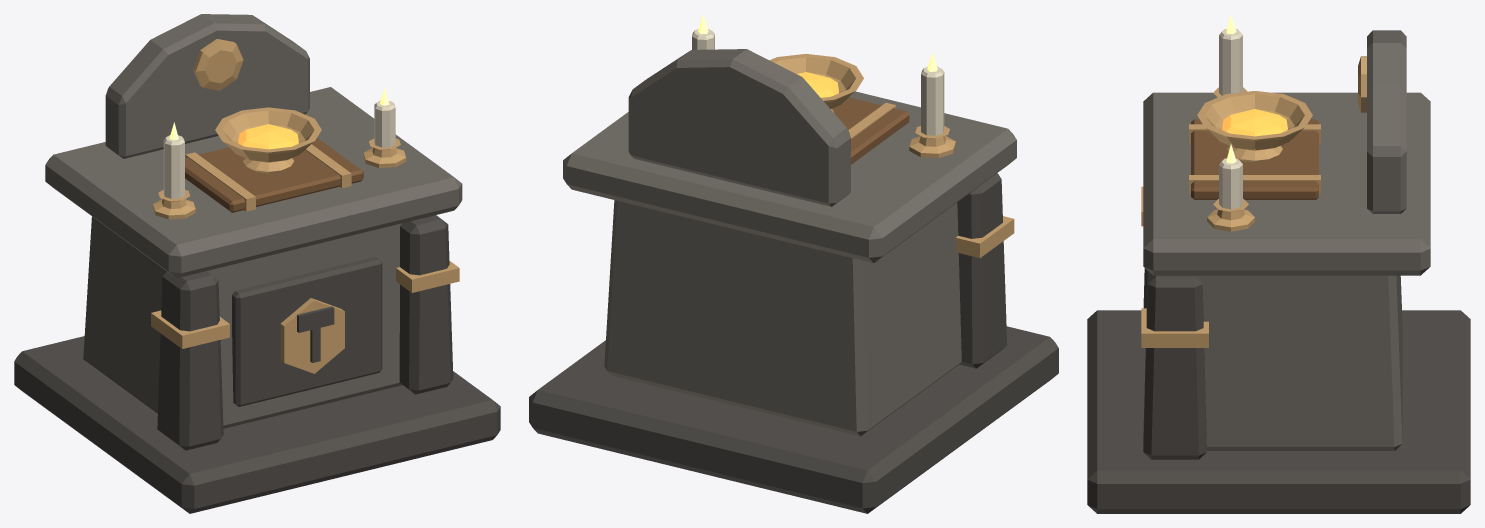
File: shrine.glb
3 views of the same model, side by side, from view 1: azimuth 30°, elevation 25°; view 2: azimuth 150°, elevation 25°; view 3: azimuth 270°, elevation 25° (orthographic). The views are drawn at different scales.
Parts seen in each view (by area): view 1: plinth, altar_top, altar_body, stele, front_panel, buttress_l, buttress_r, offering_board, offering_bowl, rune_plaque, stele_emblem, buttress_band_l (+9 smaller); view 2: altar_body, plinth, altar_top, stele, buttress_l, offering_board, offering_bowl, candle_l, buttress_band_l, candle_holder_l, bowl_offering; view 3: plinth, altar_body, altar_top, buttress_r, stele, offering_board, offering_bowl, candle_l, bowl_offering, buttress_band_r, candle_r, candle_holder_r (+2 smaller).
Part boxes in pixels (<box>): plinth: <box>14,336,500,513</box>; altar_top: <box>45,87,462,277</box>; altar_body: <box>83,216,401,428</box>; stele: <box>105,14,309,158</box>; front_panel: <box>232,256,382,406</box>; buttress_l: <box>157,271,223,450</box>; buttress_r: <box>399,215,453,394</box>; offering_board: <box>185,138,363,212</box>; offering_bowl: <box>215,107,321,173</box>; rune_plaque: <box>280,298,344,373</box>; stele_emblem: <box>193,39,243,90</box>; buttress_band_l: <box>151,310,229,348</box>; altar_body: <box>604,200,961,436</box>; plinth: <box>529,326,1058,513</box>; altar_top: <box>563,91,1016,263</box>; stele: <box>628,49,850,206</box>; buttress_l: <box>957,173,1007,368</box>; offering_board: <box>832,97,909,164</box>; offering_bowl: <box>769,54,863,112</box>; candle_l: <box>921,66,944,135</box>; buttress_band_l: <box>955,216,1014,257</box>; candle_holder_l: <box>909,126,955,158</box>; bowl_offering: <box>797,72,838,97</box>; plinth: <box>1087,310,1470,513</box>; altar_body: <box>1201,275,1402,450</box>; altar_top: <box>1143,92,1430,275</box>; buttress_r: <box>1143,271,1206,459</box>; stele: <box>1367,30,1406,213</box>; offering_board: <box>1191,119,1318,199</box>; offering_bowl: <box>1197,91,1312,162</box>; candle_l: <box>1219,29,1242,95</box>; bowl_offering: <box>1222,109,1287,149</box>; buttress_band_r: <box>1141,308,1208,347</box>; candle_r: <box>1219,158,1242,209</box>; candle_holder_r: <box>1207,199,1254,231</box>.
Size of what is drawn, in the model's own units: 1 by 1.08 by 0.96.
